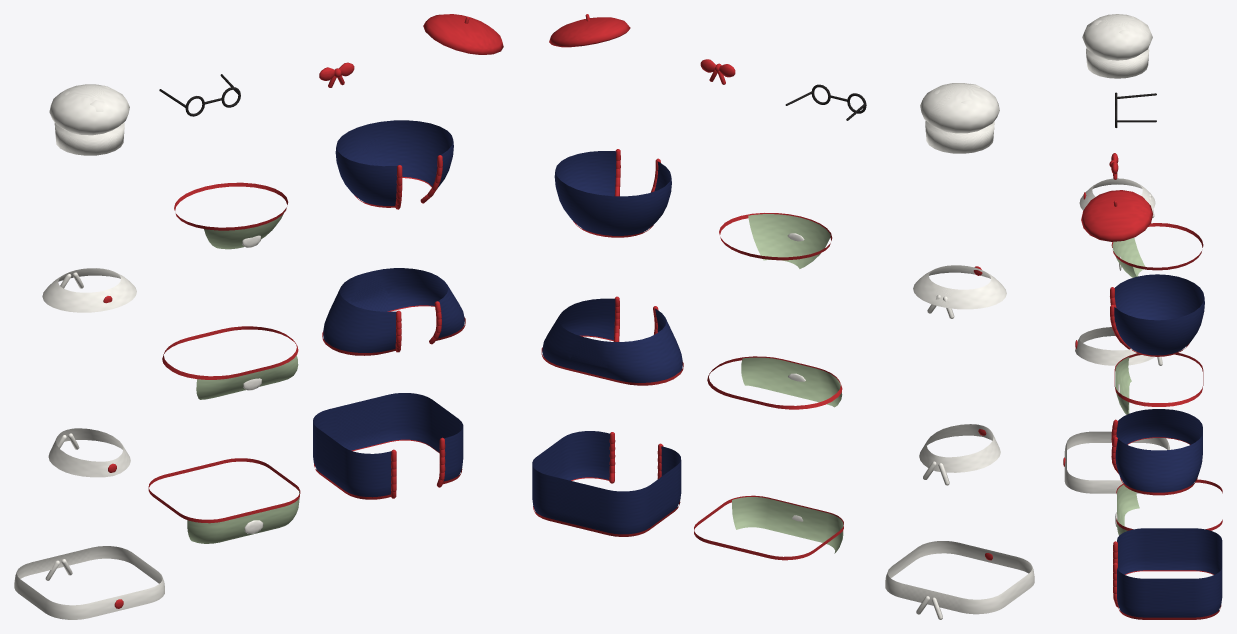
File: accessories.glb
3 renders of one model, left to right at view 1: azimuth 30°, elevation 25°; view 2: azimuth 150°, elevation 25°; view 3: azimuth 270°, elevation 25°, orthographic. The views are drawn at different scales.
Parts seen in each view (by area): view 1: Vest-tofu, Vest-onigiri, Vest-mochi, ChefHat, Hachimaki-tofu, Apron-tofu, Apron-onigiri, Hachimaki-mochi, Beret, Hachimaki-onigiri, Apron-mochi; view 2: Vest-tofu, Vest-onigiri, Vest-mochi, ChefHat, Hachimaki-tofu, Apron-tofu, Apron-onigiri, Apron-mochi, Hachimaki-mochi, Hachimaki-onigiri, Beret; view 3: Vest-tofu, Vest-mochi, Vest-onigiri, ChefHat, Beret, Hachimaki-tofu, Hachimaki-onigiri, Apron-mochi, Apron-onigiri, Apron-tofu, Hachimaki-mochi, Glasses.
Part boxes in pixels (<box>): Vest-tofu: <box>313,393,463,499</box>; Vest-onigiri: <box>322,268,465,355</box>; Vest-mochi: <box>335,120,453,209</box>; ChefHat: <box>49,84,129,155</box>; Hachimaki-tofu: <box>14,546,164,619</box>; Apron-tofu: <box>148,458,300,543</box>; Apron-onigiri: <box>162,326,298,399</box>; Hachimaki-mochi: <box>42,268,136,312</box>; Beret: <box>423,14,503,54</box>; Hachimaki-onigiri: <box>48,428,130,477</box>; Apron-mochi: <box>174,182,288,249</box>; Vest-tofu: <box>532,431,681,536</box>; Vest-onigiri: <box>541,296,683,385</box>; Vest-mochi: <box>554,149,671,237</box>; ChefHat: <box>920,83,999,153</box>; Hachimaki-tofu: <box>885,541,1034,619</box>; Apron-tofu: <box>694,495,843,560</box>; Apron-onigiri: <box>707,356,842,409</box>; Apron-mochi: <box>719,213,832,268</box>; Hachimaki-mochi: <box>913,265,1006,318</box>; Hachimaki-onigiri: <box>919,424,1000,485</box>; Beret: <box>549,14,630,47</box>; Vest-tofu: <box>1113,528,1222,619</box>; Vest-mochi: <box>1110,274,1204,356</box>; Vest-onigiri: <box>1111,409,1202,495</box>; ChefHat: <box>1082,14,1152,78</box>; Beret: <box>1081,190,1152,241</box>; Hachimaki-tofu: <box>1063,431,1169,493</box>; Hachimaki-onigiri: <box>1075,327,1162,365</box>; Apron-mochi: <box>1111,223,1203,277</box>; Apron-onigiri: <box>1114,353,1203,414</box>; Apron-tofu: <box>1115,479,1222,535</box>; Hachimaki-mochi: <box>1079,178,1155,217</box>; Glasses: <box>1115,92,1156,127</box>.
Size of the model in its own units: 0.171 by 0.1787 by 0.0564.
Materials: 1 (1 with a texture image).
